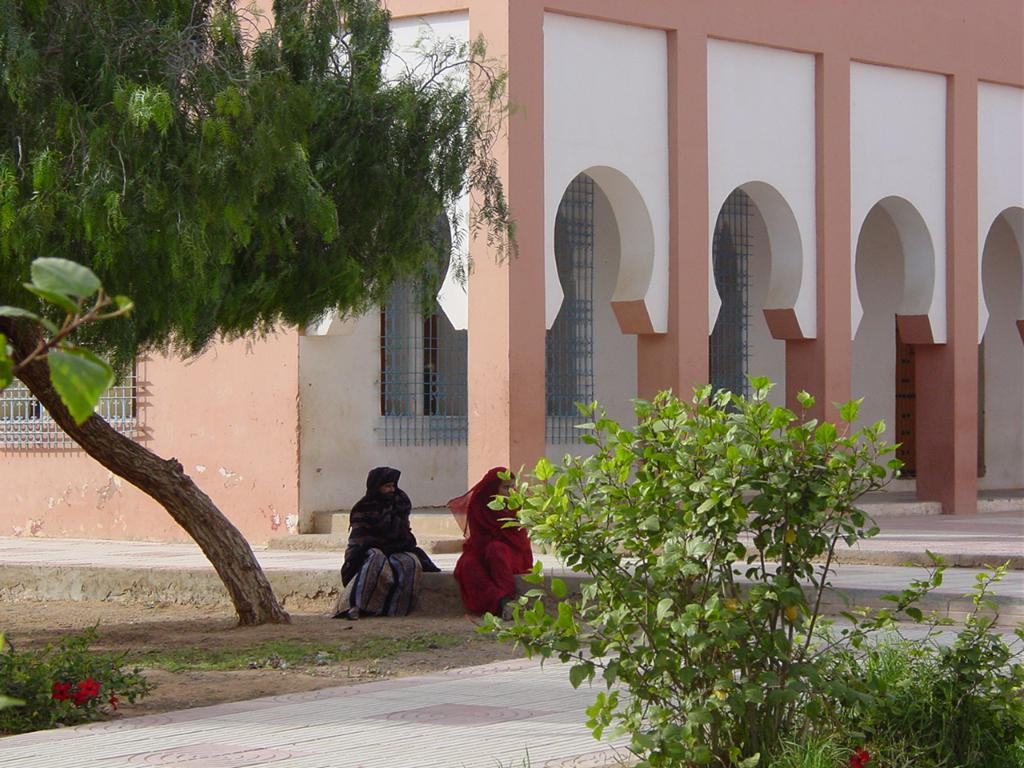Tree: (0, 0, 530, 632)
